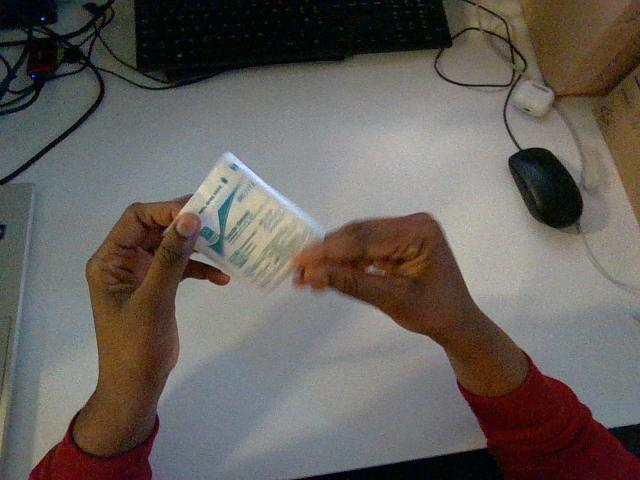gauze: (181, 152, 323, 289)
